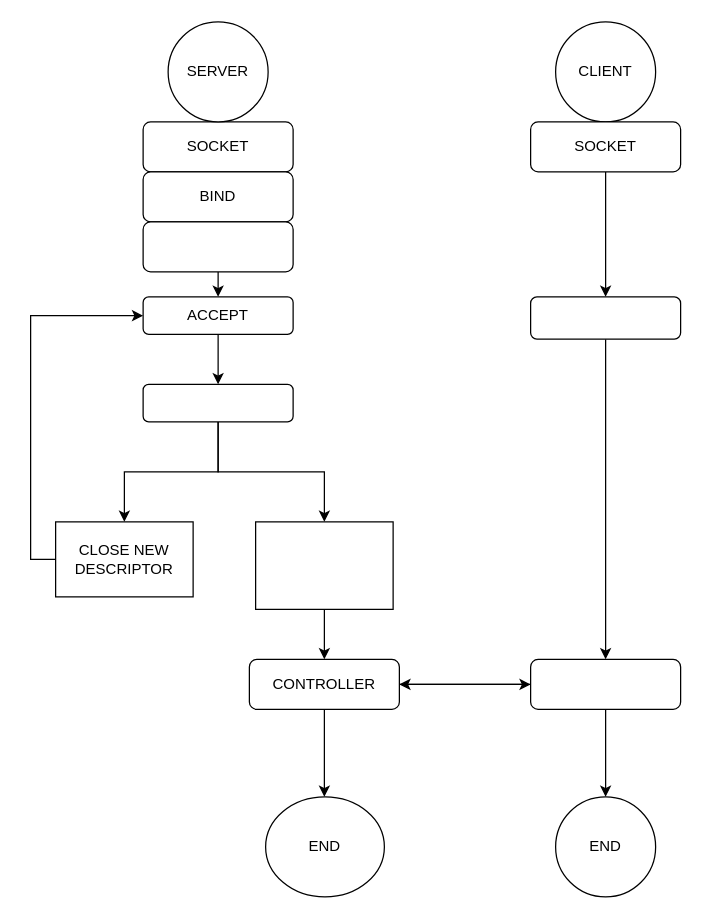
The diagram is 703 pixels wide and 919 high, and some of its shapes have lost their labels. The centre of each missing label's shape, as x and y in pixels:
"CLOSE OLD DESCRIPTOR" goes at point 323,565.
"CONNECT" goes at point 605,317.
"FORK" goes at point 217,402.
"LISTEN" goes at point 217,246.
"UI" goes at point 605,683.
